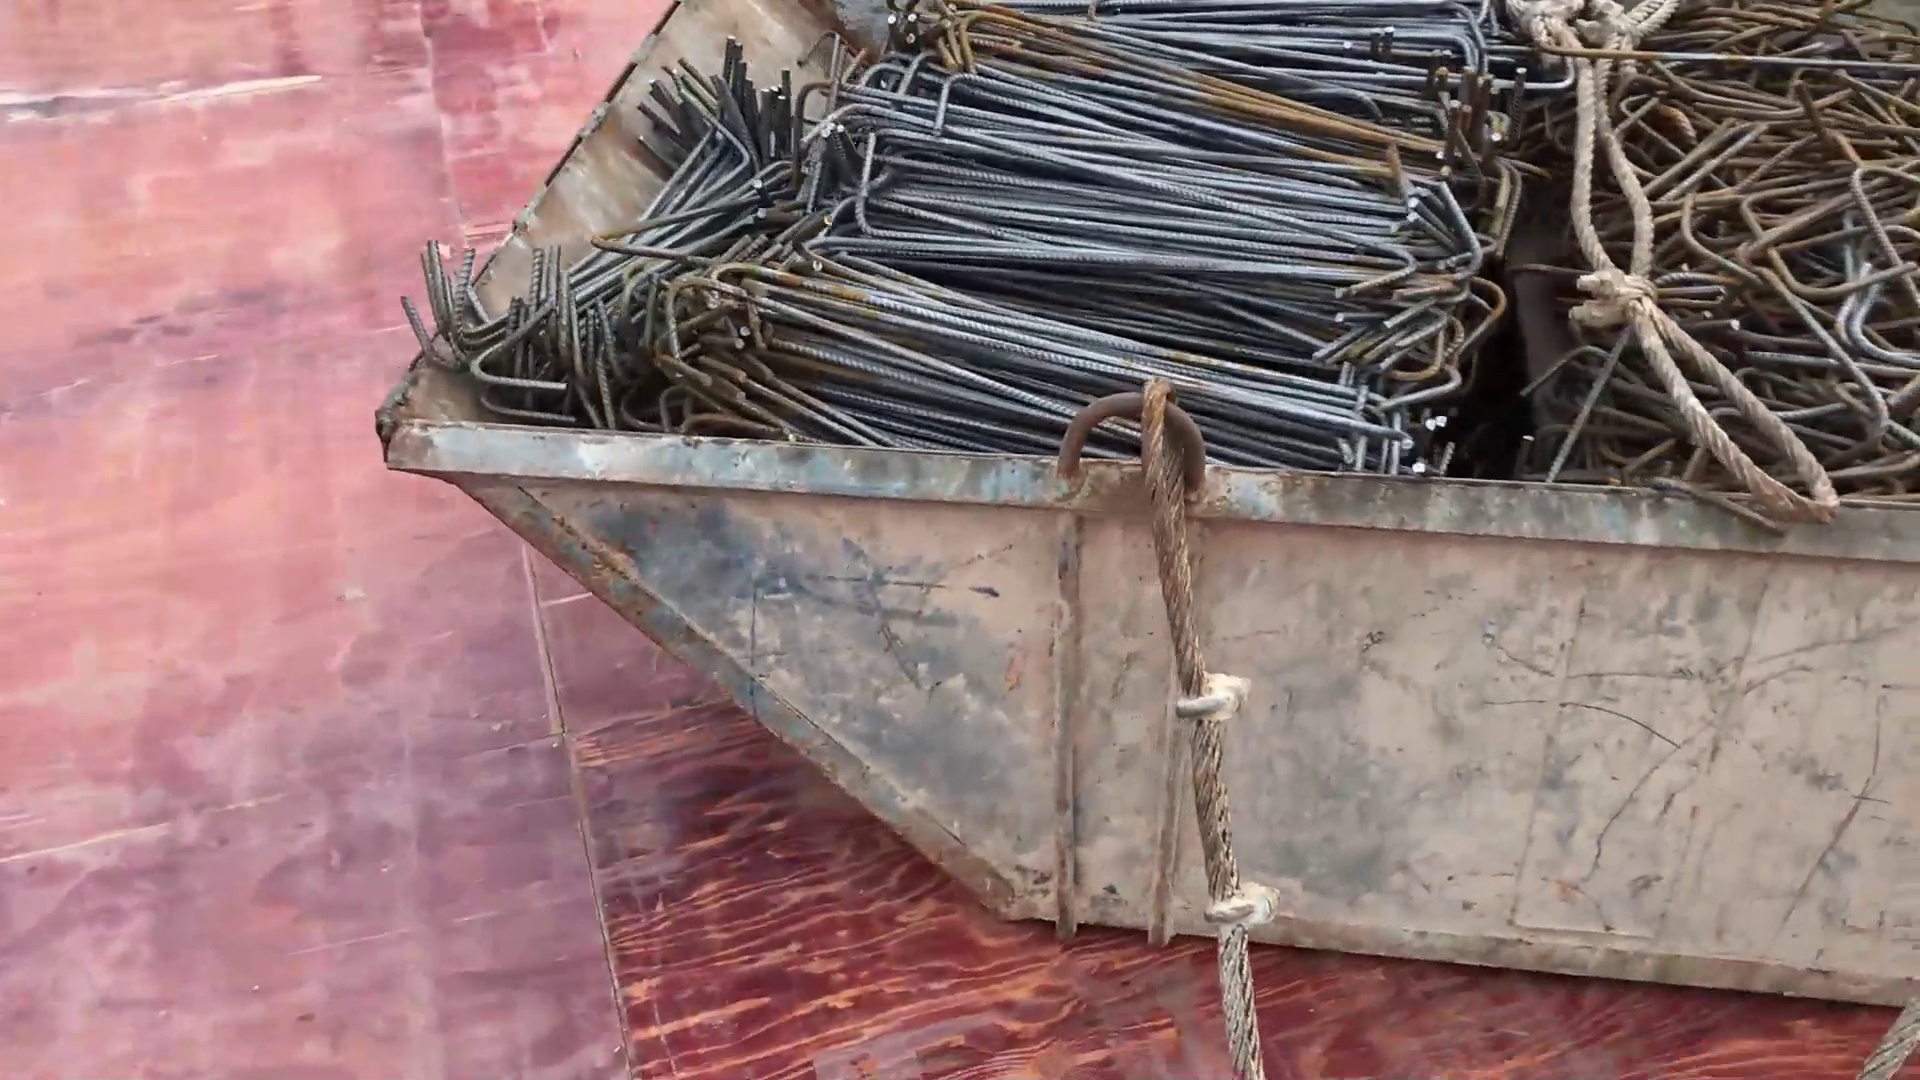hopper: (353, 11, 1920, 1021)
